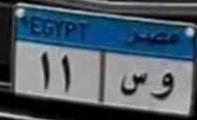1: (55, 51, 81, 98), (39, 49, 52, 91)
س: (96, 62, 150, 109)
و: (147, 63, 180, 105)
